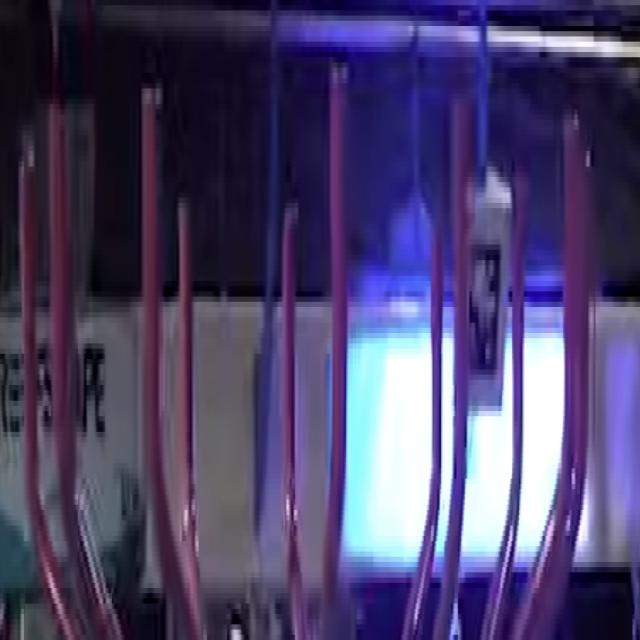Reef: (564, 114, 586, 515), (51, 111, 72, 479), (330, 63, 348, 473), (452, 93, 470, 447), (142, 90, 158, 466), (22, 146, 37, 514), (512, 173, 525, 477), (284, 209, 296, 537), (180, 203, 192, 525), (430, 234, 442, 458)
